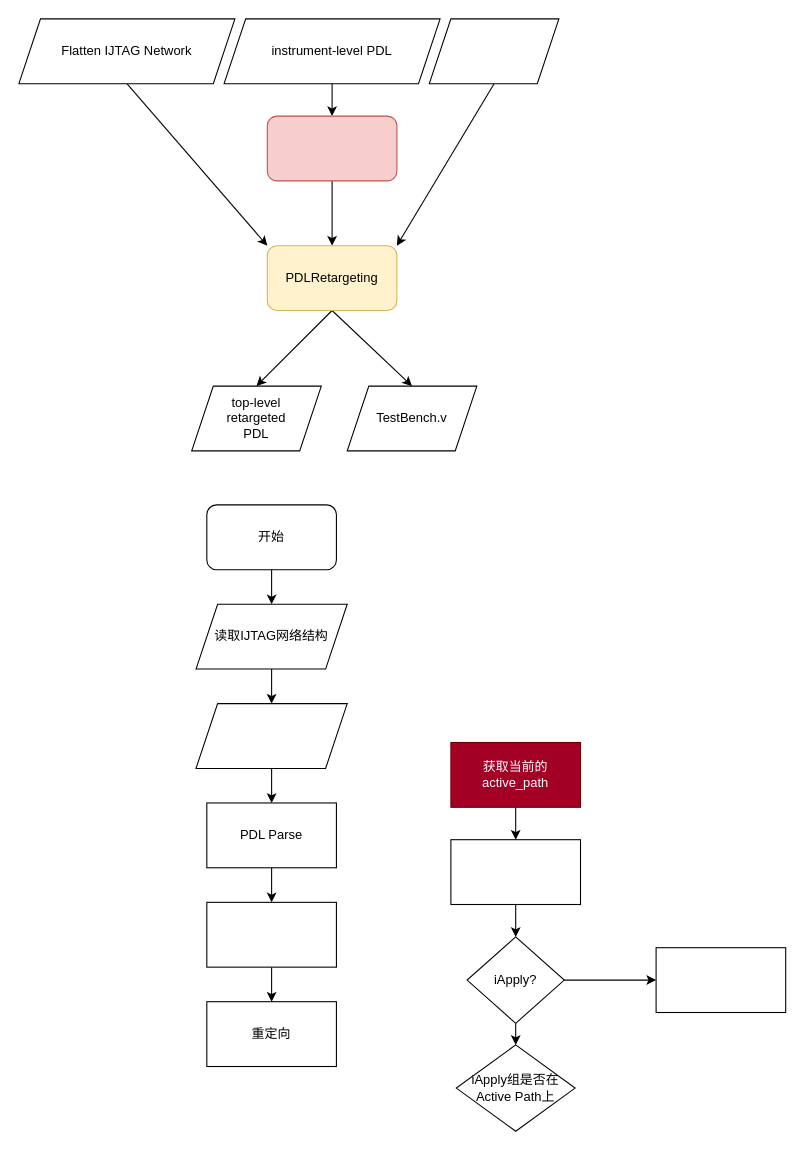
Some shapes in this 805 by 1150 pixel diagram are drawn without their labels. Here are the shapes that lost their labels. From the top down, the centre of each, then its label:
point 493,51: top-level iCall Command
point 331,148: PDL Parser
point 271,735: 读取PDL文件
point 515,872: 找到对应的iProc
point 271,934: 重定向iCall命令
point 720,980: 构造iApply组
